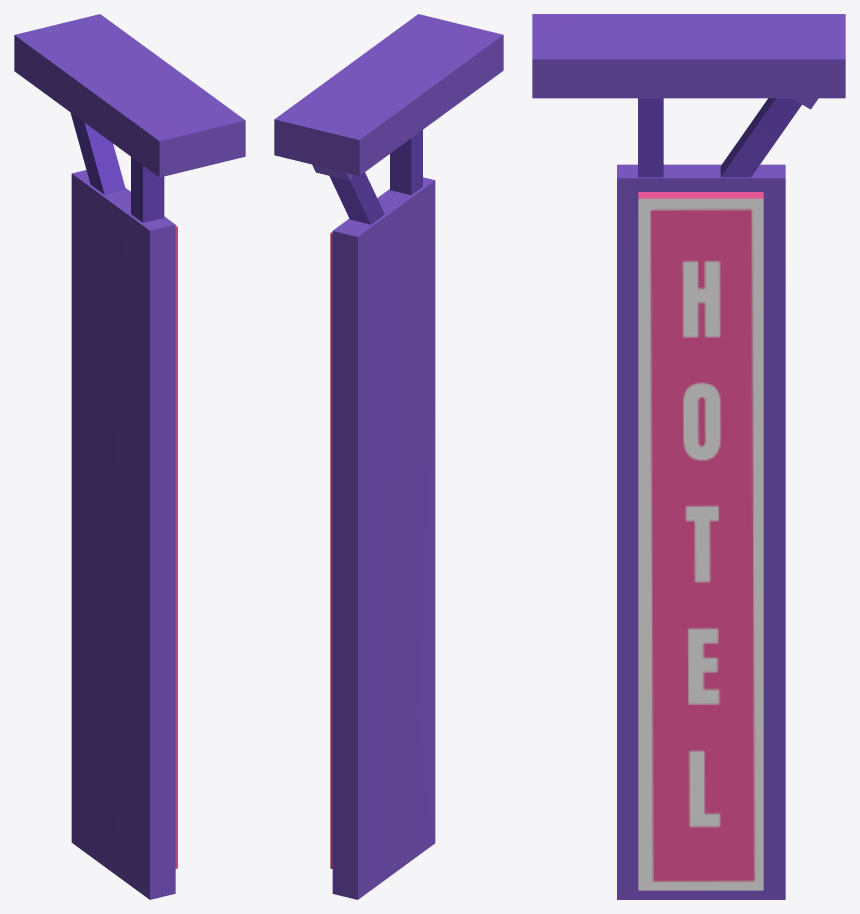
The model's file is SignProp_1_C_6.glb.
3 views of the same model, side by side, from view 1: azimuth 30°, elevation 25°; view 2: azimuth 150°, elevation 25°; view 3: azimuth 270°, elevation 25° (orthographic). The views are drawn at different scales.
Parts seen in each view (by area): view 1: SignProp_1_C_6; view 2: SignProp_1_C_6; view 3: SignProp_1_C_6.
Boxes of the visible parts, x1,y1,x2,y2 form: SignProp_1_C_6: [14, 14, 245, 899]; SignProp_1_C_6: [274, 14, 503, 899]; SignProp_1_C_6: [532, 14, 845, 899].
Size of the model in its own units: 0.2079 by 1.84 by 0.6095.
Materials: 2 (2 with a texture image).
